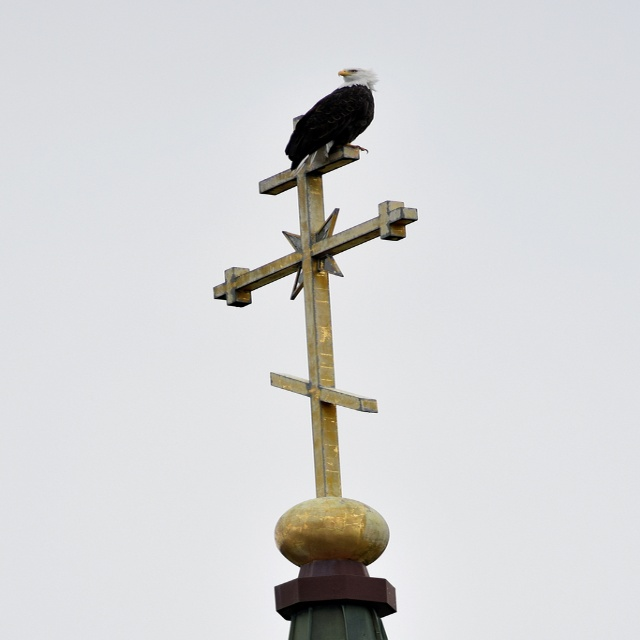Eagle: (286, 70, 381, 175)
